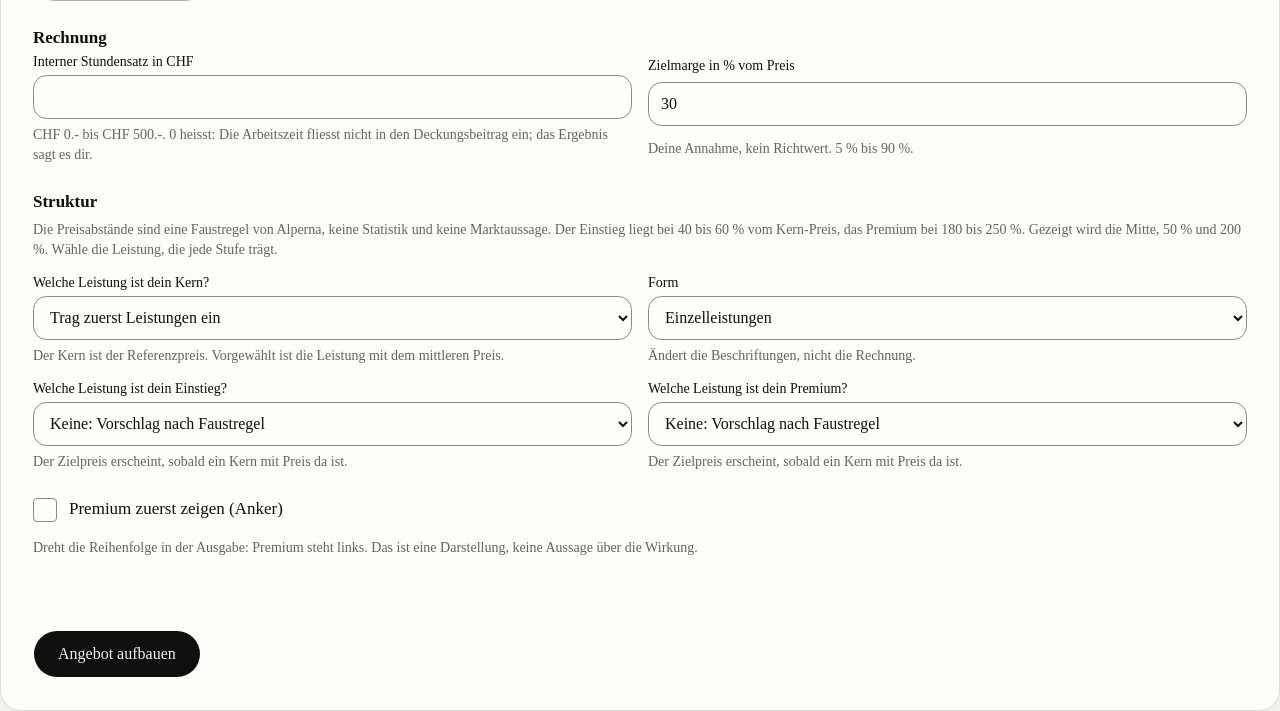
Test: Angebotsarchitektur im Browser › meldet Fehler im Formular mit role=alert und fragt noch nicht nach der Adresse
(page scrolled)
Click the button "Angebot aufbauen". click: (117, 654)
box: [33,630,201,678]
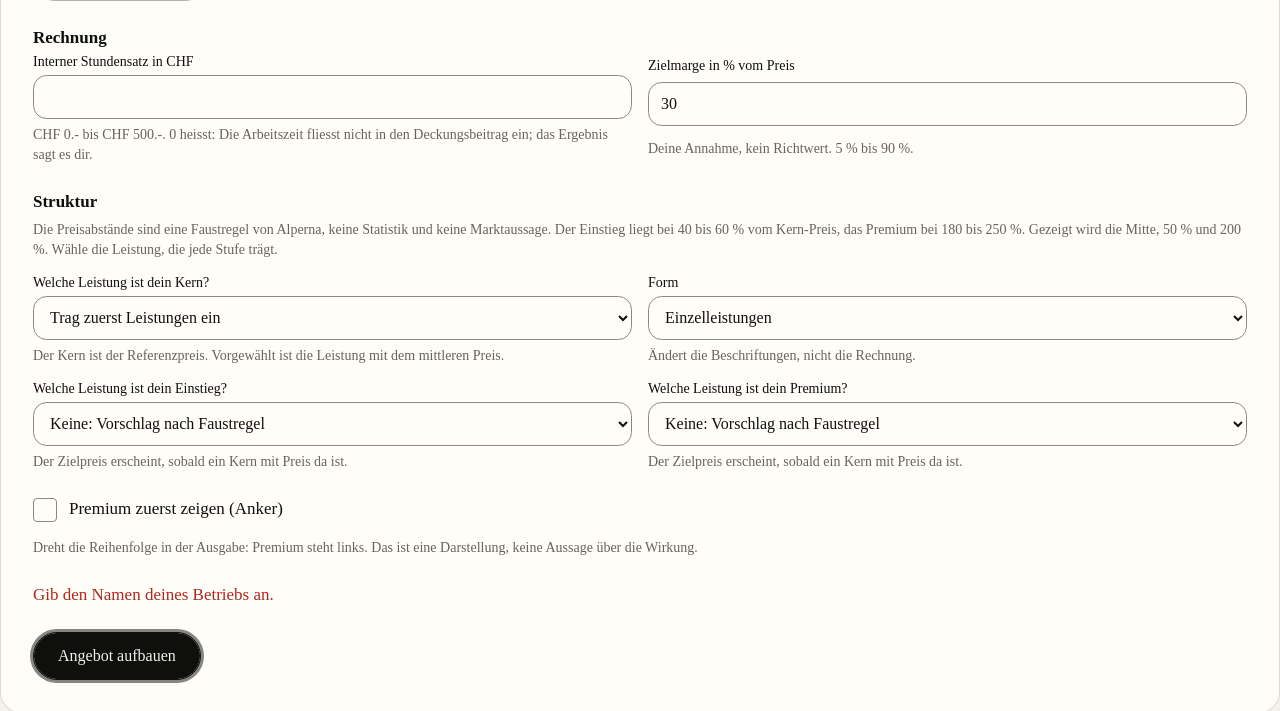
Now the message reads "Gib den Namen deines Betriebs an.", box [33,585,274,604]
